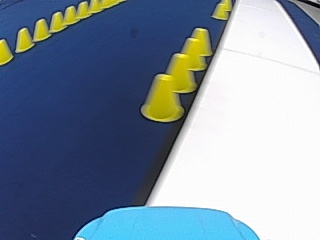cone: (140, 73, 182, 122), (163, 51, 196, 92), (180, 31, 208, 68), (187, 27, 212, 57), (15, 27, 32, 51), (32, 18, 49, 40), (0, 38, 13, 64), (211, 1, 228, 19), (49, 11, 63, 31), (62, 5, 76, 24), (75, 1, 88, 18)
